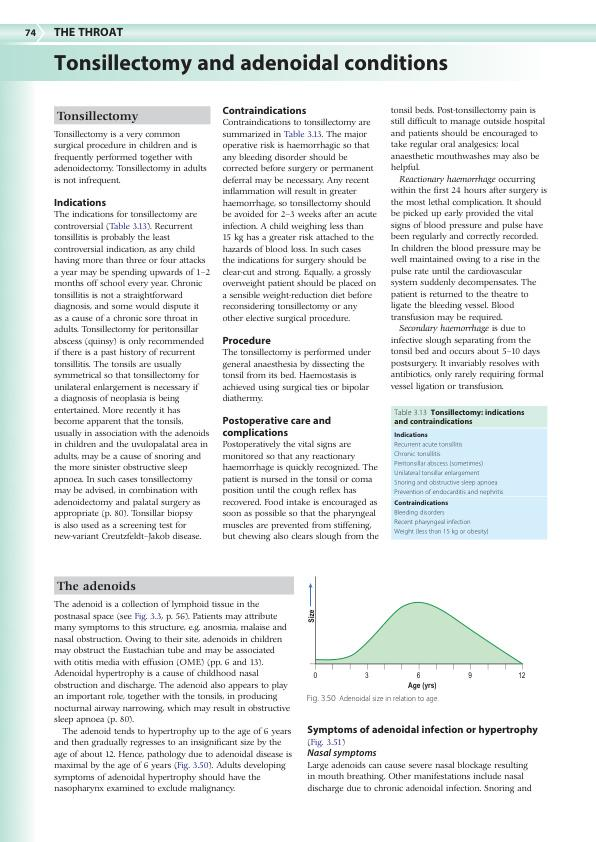caption: (392, 408, 526, 425), (306, 694, 440, 704)
chapter-heading: (52, 53, 449, 74)
header: (53, 26, 125, 37)
image: (300, 568, 533, 691)
section-heading: (56, 110, 139, 123), (56, 580, 138, 592)
sub-section-heading: (307, 724, 539, 737), (222, 415, 332, 439), (222, 105, 307, 115), (306, 748, 377, 759), (53, 197, 106, 208), (222, 335, 271, 345)
table: (391, 428, 548, 540)
text: (53, 210, 211, 541), (53, 599, 294, 795), (389, 105, 549, 392), (222, 117, 377, 325), (222, 440, 380, 543), (53, 129, 208, 187), (221, 347, 372, 404), (306, 761, 533, 794)
